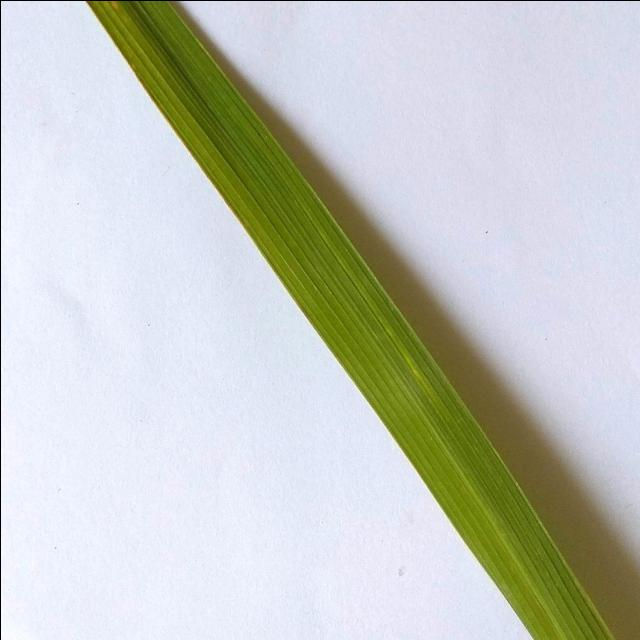healthy: (80, 0, 638, 640)
